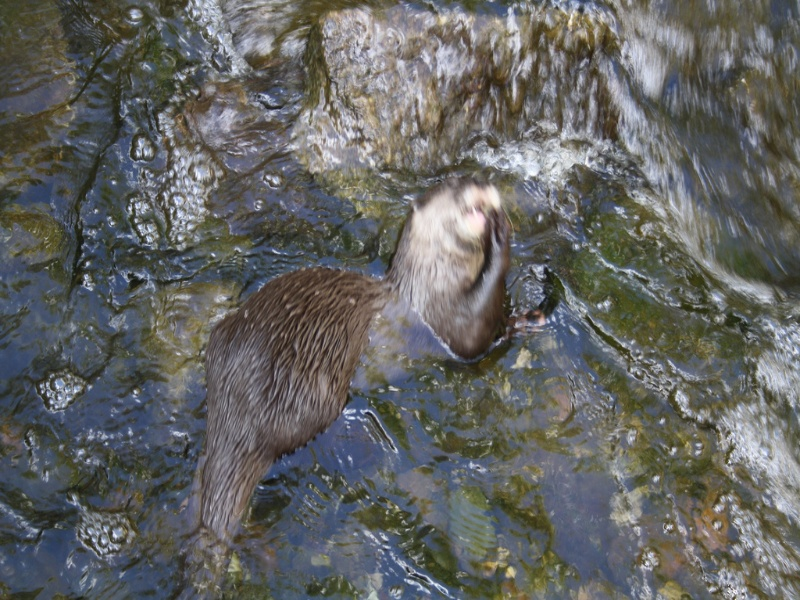minkish: (198, 180, 526, 555)
